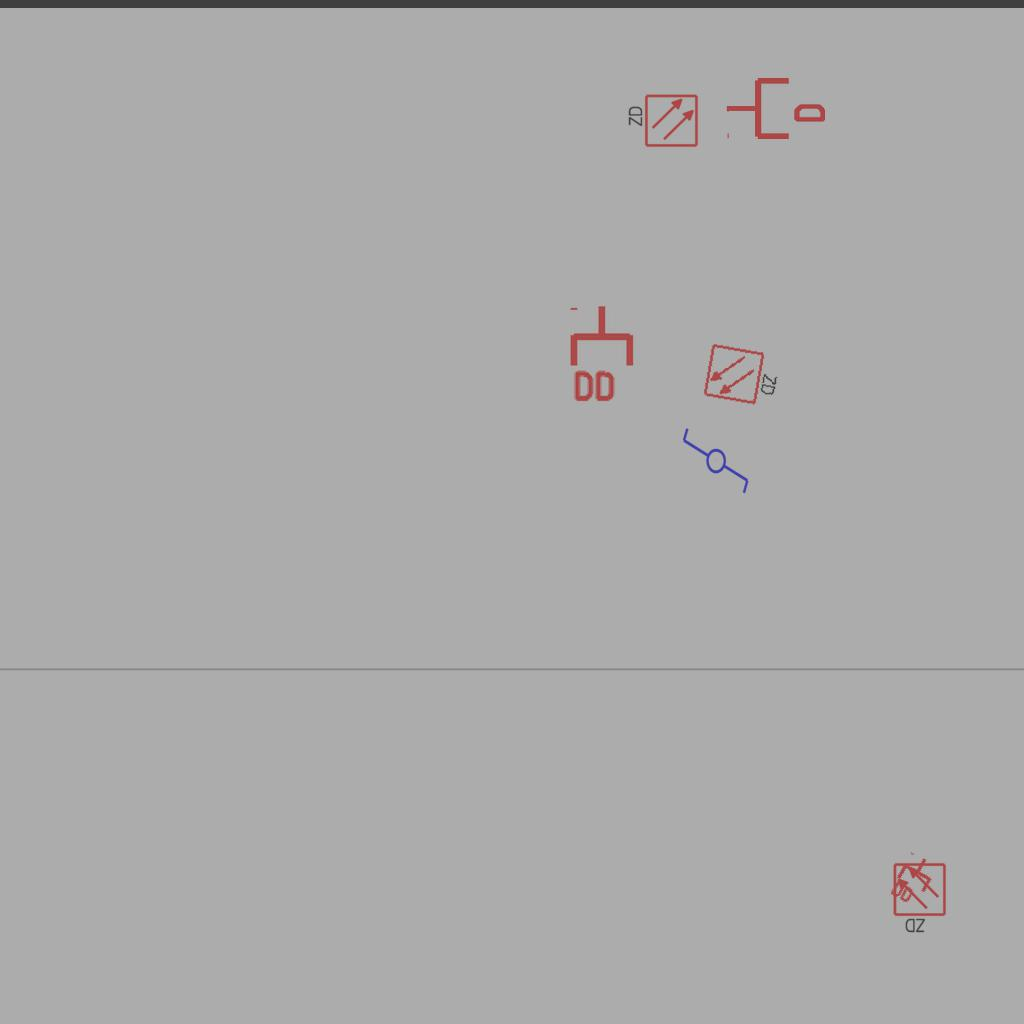Datenanschluss_einfach: (725, 74, 825, 143)
Datenanschluss_zweifach: (569, 303, 638, 406), (886, 849, 942, 912)
Wechselschalter: (679, 426, 751, 504)
ZD_Melder_in_Zwischendecke_mit_Revisionsoeffnung_mind_40_x_40_cm: (702, 340, 785, 410), (625, 93, 699, 150), (892, 862, 949, 936)
